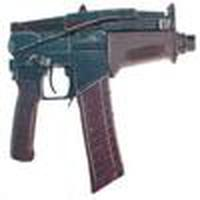gun: (2, 3, 200, 159)
